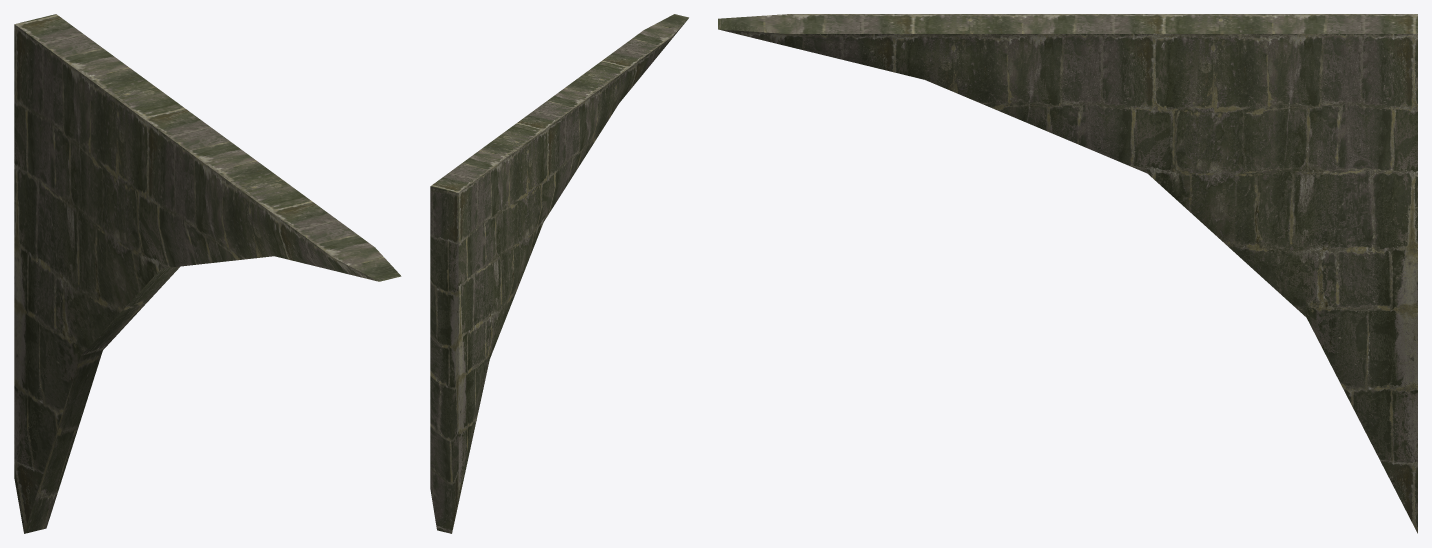
The model's file is GableCurved_Down_Left.fbx.
The picture shows the model from 3 angles, left to right: view 1: azimuth 30°, elevation 25°; view 2: azimuth 150°, elevation 25°; view 3: azimuth 270°, elevation 25°; orthographic projection. The views are drawn at different scales.
Visible parts, largest first — view 1: Gable_Down_Left.001; view 2: Gable_Down_Left.001; view 3: Gable_Down_Left.001.
Boxes of the visible parts, left/top/right/bottom form: Gable_Down_Left.001: left=14, top=14, right=401, bottom=533; Gable_Down_Left.001: left=430, top=14, right=688, bottom=533; Gable_Down_Left.001: left=718, top=14, right=1417, bottom=533.
Bounding box in the file's own units: 51 × 595 × 748.
